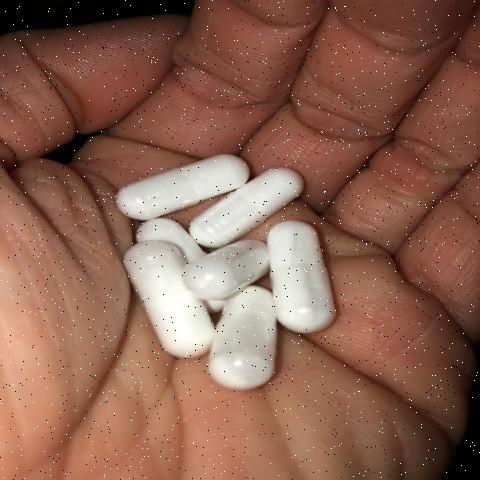hands: (262, 220, 358, 340), (103, 145, 248, 218)
